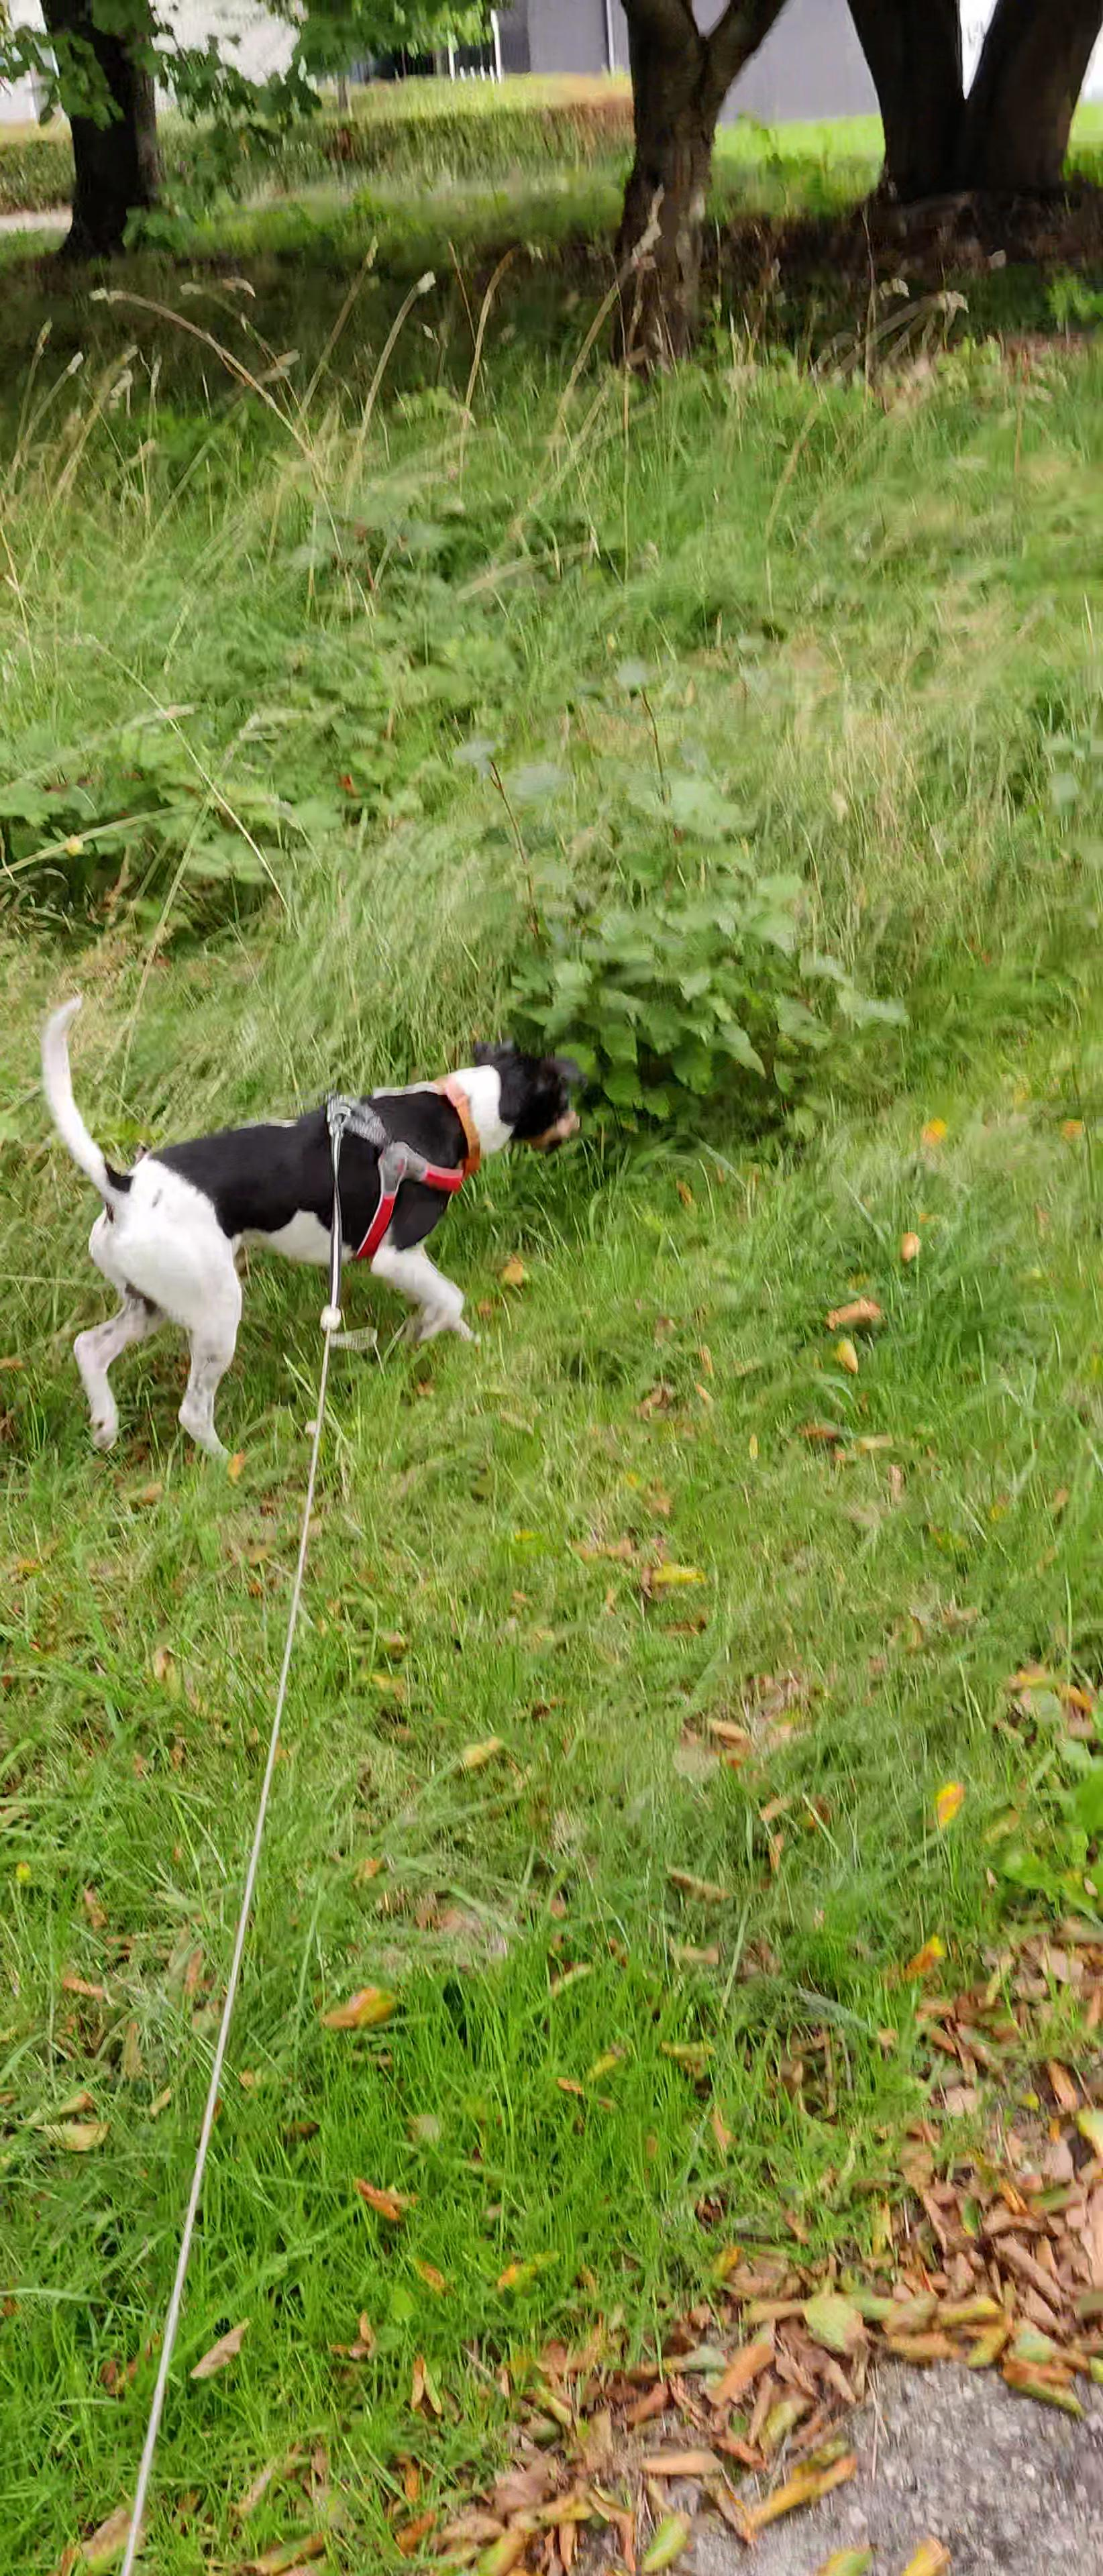Dog: (21, 987, 607, 1462)
